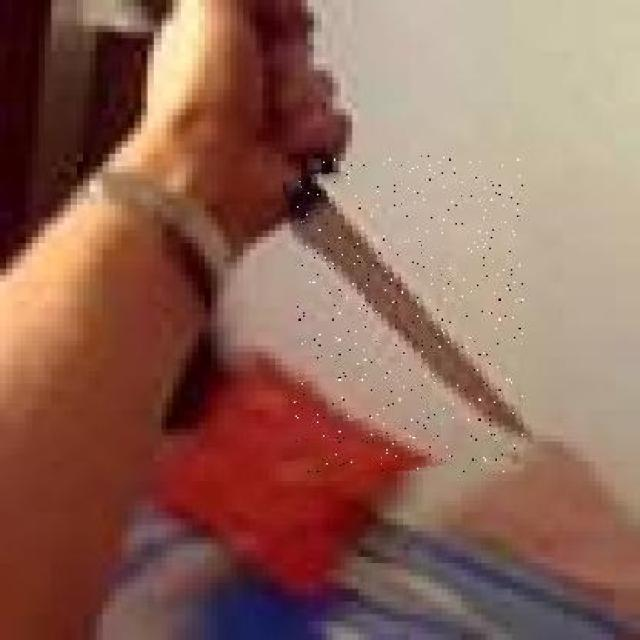knife: (294, 156, 523, 473)
